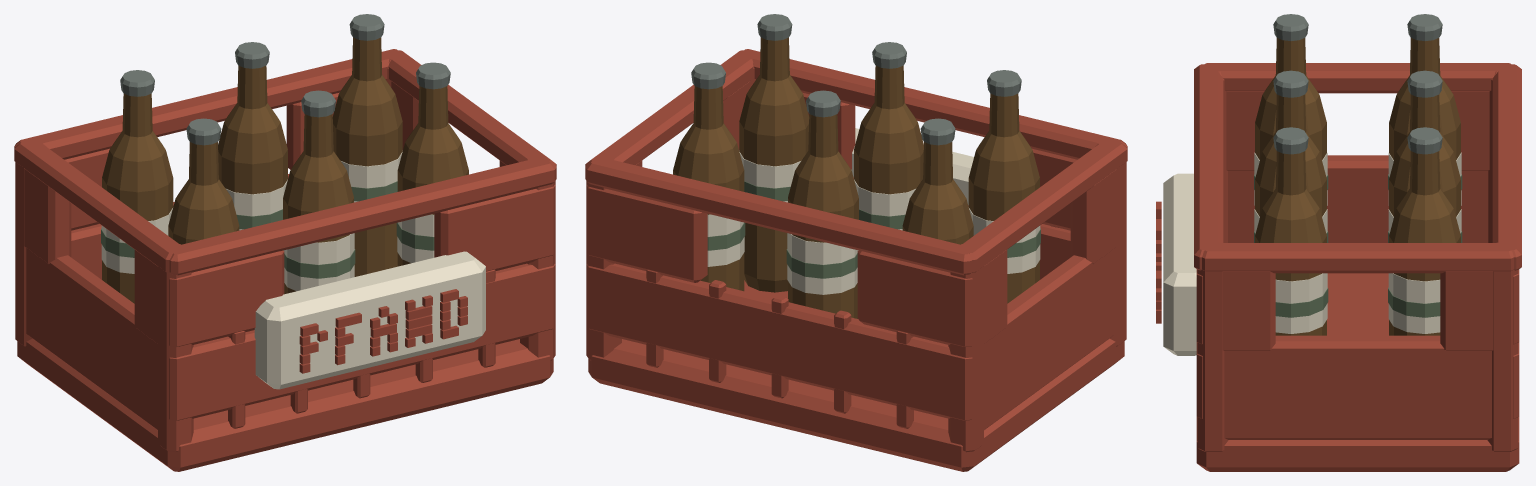
File: beer-crate.glb
3 renders of one model, left to right at view 1: azimuth 30°, elevation 25°; view 2: azimuth 150°, elevation 25°; view 3: azimuth 270°, elevation 25°, orthographic.
Visible parts, largest first — view 1: beer-crate; view 2: beer-crate; view 3: beer-crate.
Boxes of the visible parts, x1=… form: beer-crate: x1=14, y1=14, x2=556, y2=471; beer-crate: x1=585, y1=14, x2=1127, y2=471; beer-crate: x1=1156, y1=14, x2=1521, y2=471.
Bounding box in the file's own units: 0.6744 × 0.4946 × 0.54.
